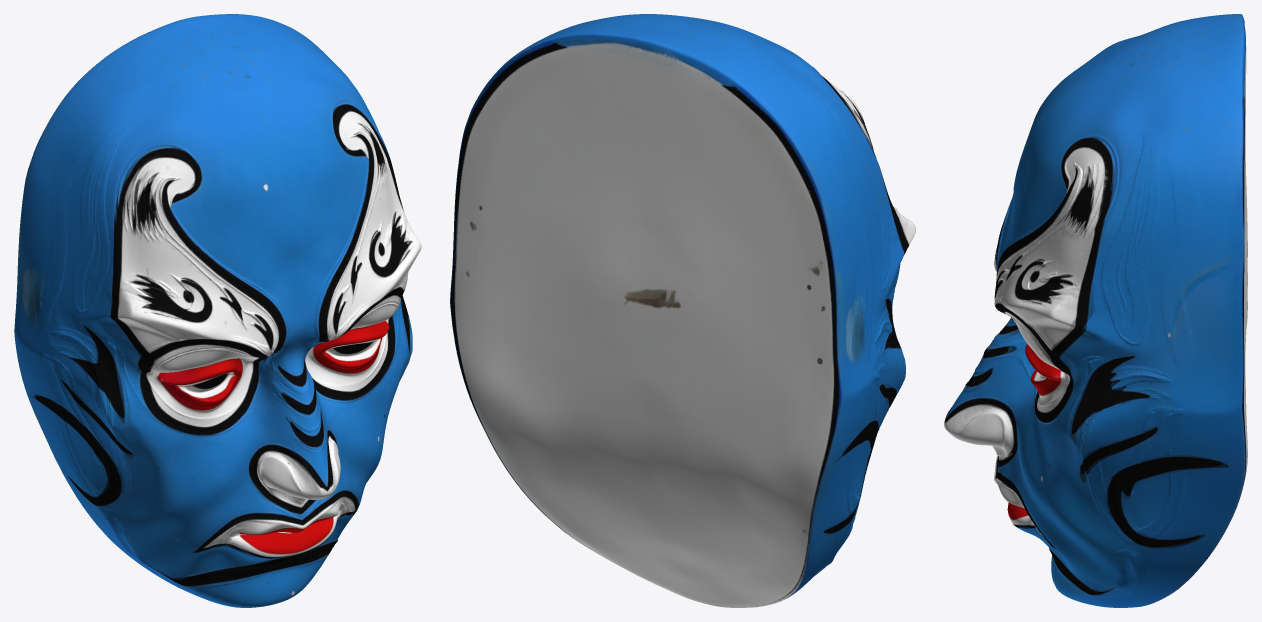
The model's file is mask.glb.
The picture shows the model from 3 angles, left to right: view 1: azimuth 30°, elevation 25°; view 2: azimuth 150°, elevation 25°; view 3: azimuth 270°, elevation 25°; orthographic projection. The views are drawn at different scales.
Visible parts, largest first — view 1: Mesh_0_Material.001_0 (×4); view 2: Mesh_0_Material.001_0 (×3); view 3: Mesh_0_Material.001_0 (×4).
Part boxes in pixels (x1=…): Mesh_0_Material.001_0 (×4): x1=14, y1=14, x2=421, y2=607; Mesh_0_Material.001_0 (×3): x1=450, y1=14, x2=915, y2=607; Mesh_0_Material.001_0 (×4): x1=944, y1=14, x2=1247, y2=607.
Size of the model in its own units: 0.1697 by 0.25 by 0.123.
1 material, 1 textured.
